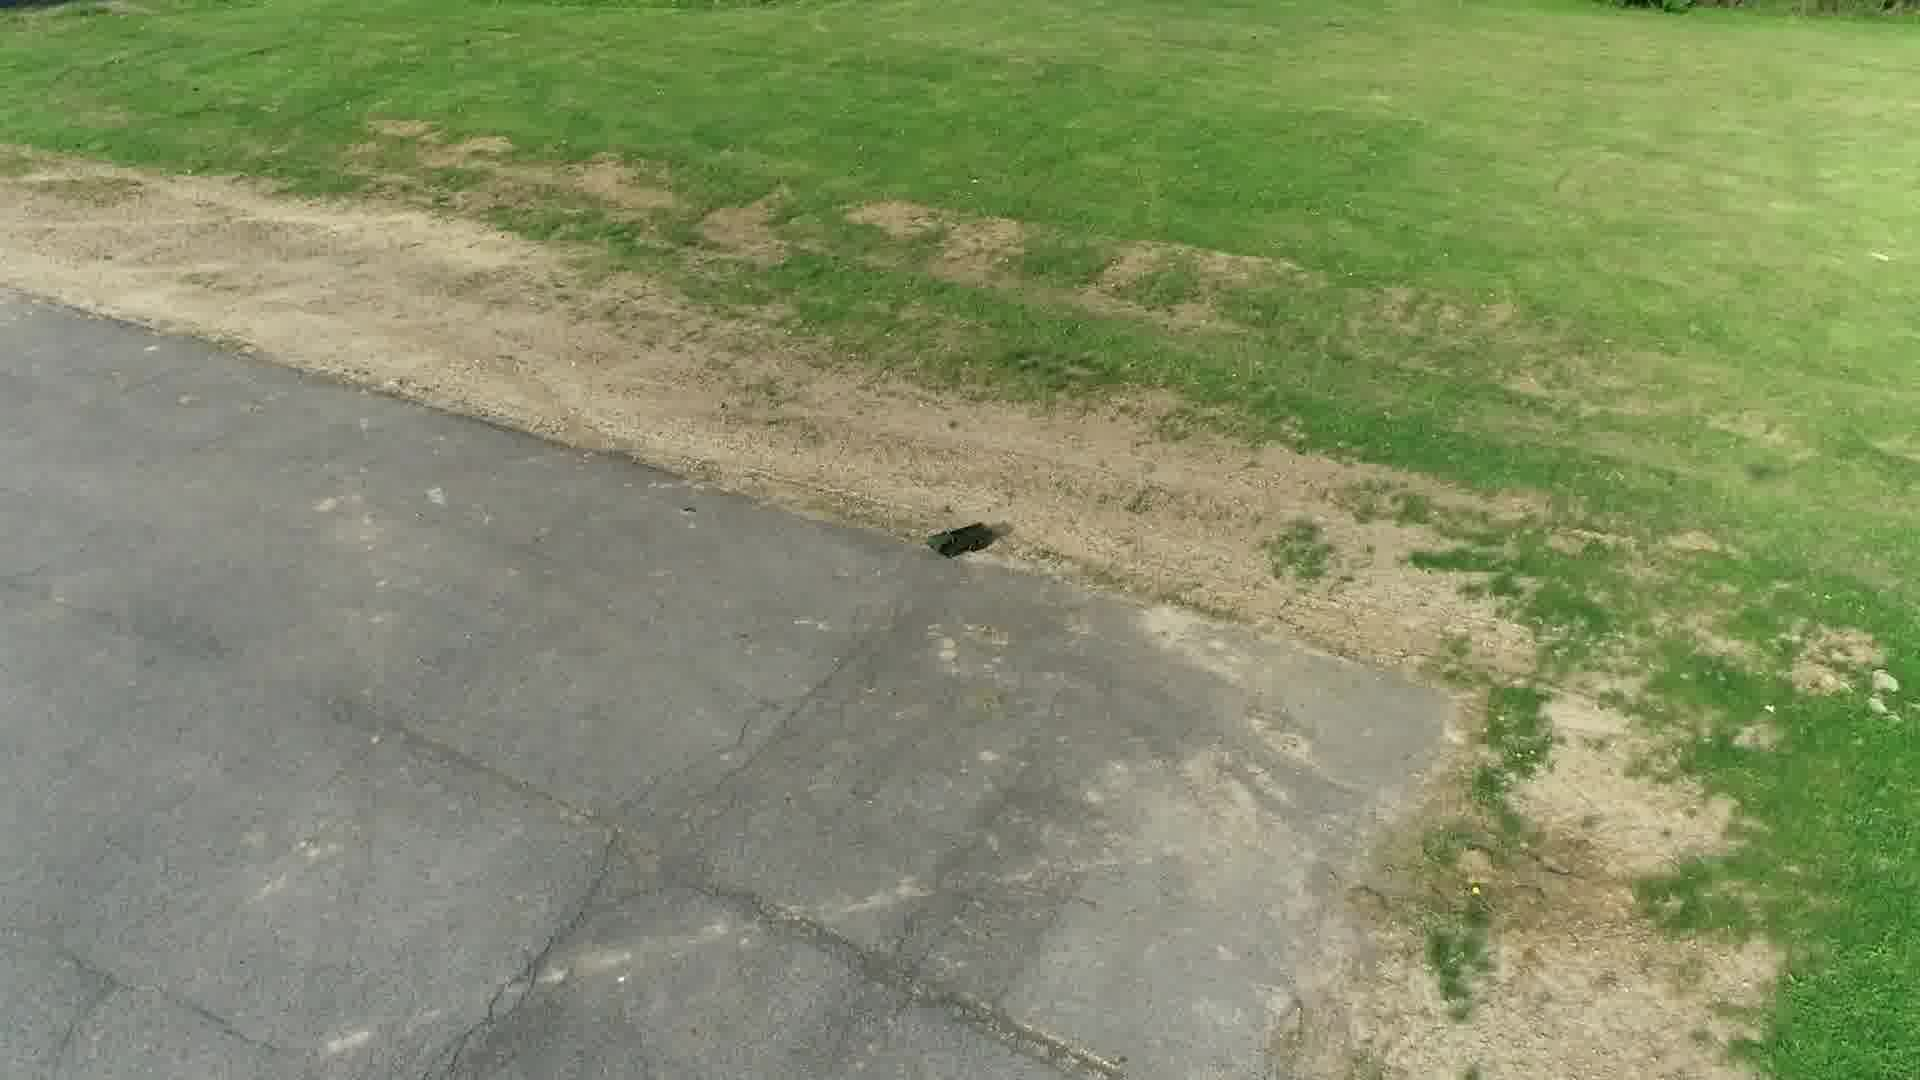transporter9: (924, 520, 997, 559)
